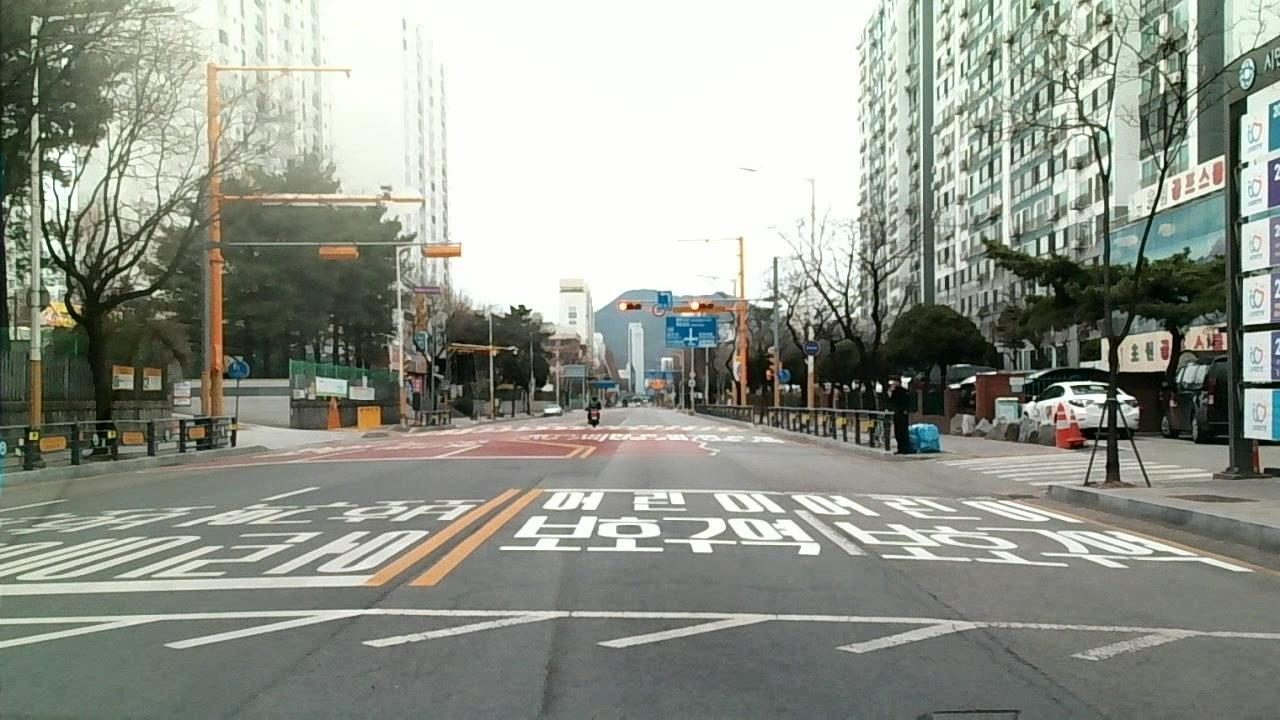banner: (315, 375, 347, 397), (354, 383, 375, 404)
trash: (906, 422, 938, 455)
vcrack: (244, 571, 424, 706), (929, 586, 1110, 720)
